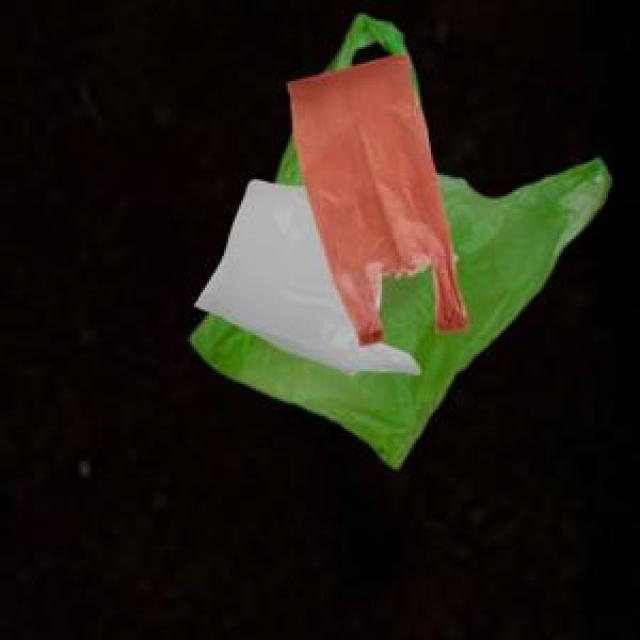plastic: (176, 11, 608, 504)
